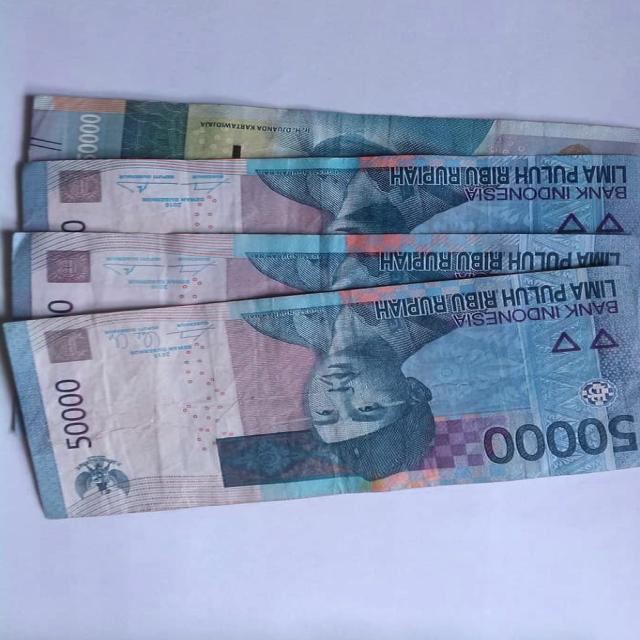lima puluh ribu rupiah: (0, 262, 640, 519), (5, 232, 640, 319), (17, 154, 640, 234), (26, 96, 640, 165)
